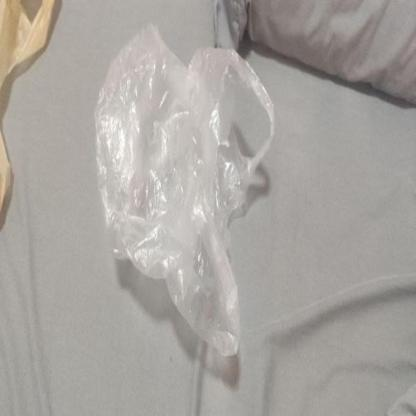Plastic Bag: (85, 19, 281, 366)
